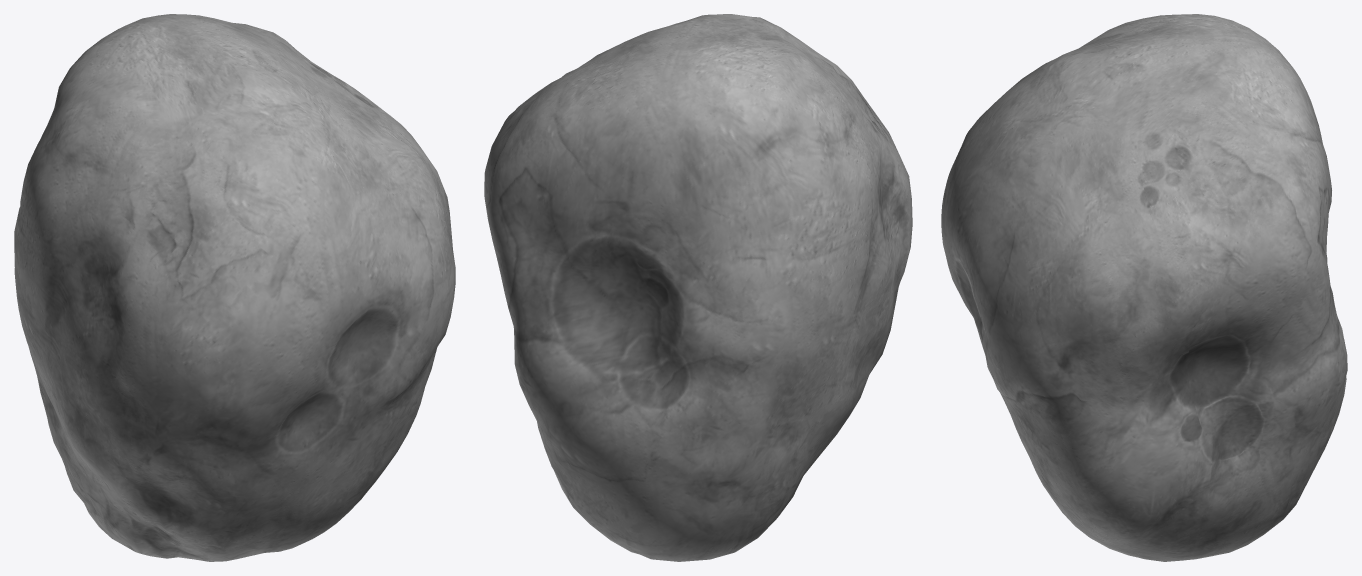
The picture shows the model from 3 angles, left to right: view 1: azimuth 30°, elevation 25°; view 2: azimuth 150°, elevation 25°; view 3: azimuth 270°, elevation 25°; orthographic projection. The views are drawn at different scales.
Parts seen in each view (by area): view 1: asteroid_03; view 2: asteroid_03; view 3: asteroid_03.
Boxes of the visible parts, x1,y1,x2,y2 form: asteroid_03: (14,14,455,561); asteroid_03: (484,14,912,561); asteroid_03: (941,14,1347,561).
Size of the model in its own units: 1.49 by 2 by 1.46.
Materials: 1 (1 with a texture image).
